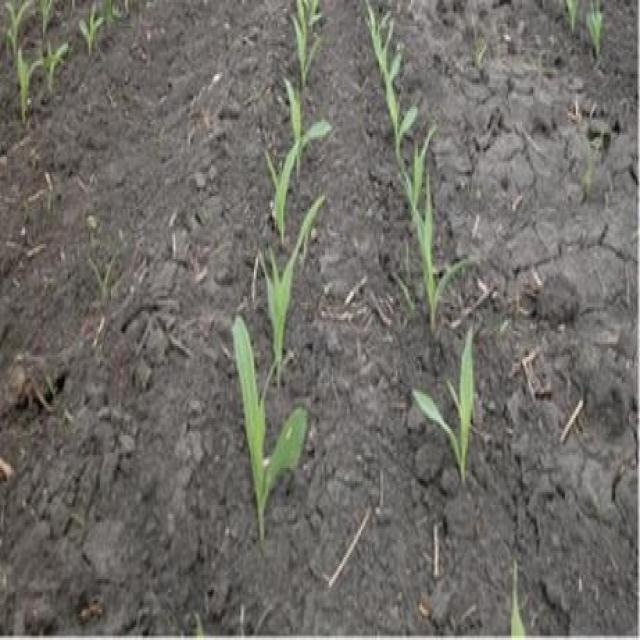row: (0, 0, 291, 636), (397, 0, 640, 640)
